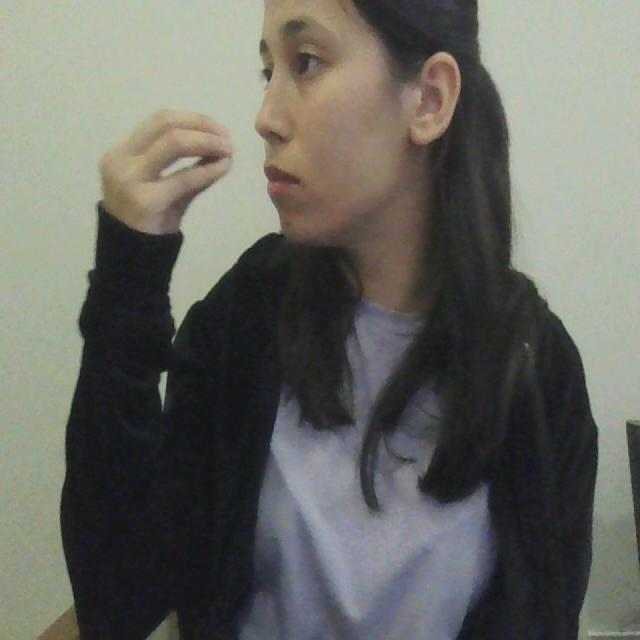Yemek: (99, 108, 288, 206)
